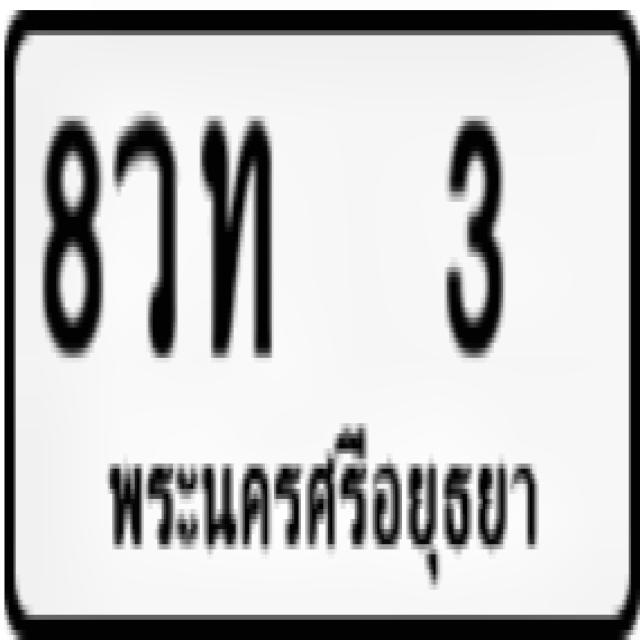license-plate: (4, 5, 638, 640)
